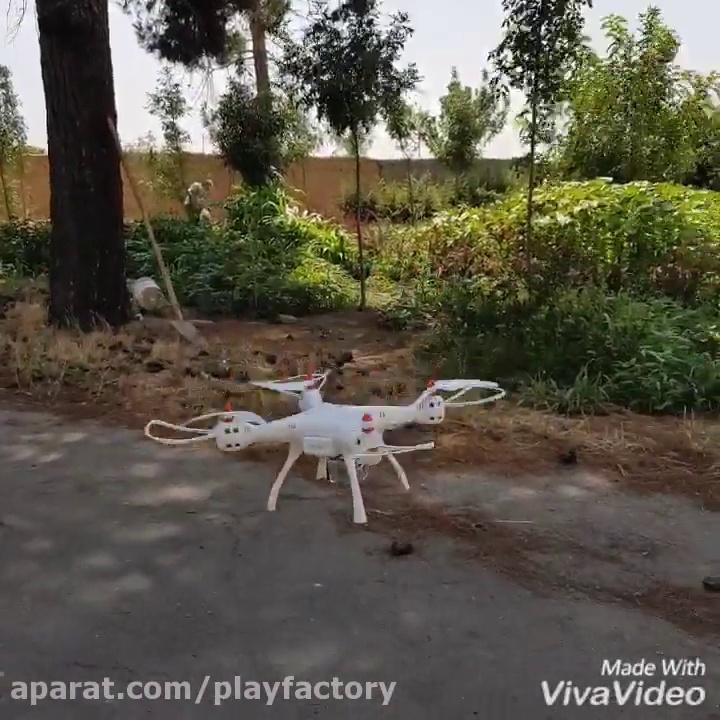drone: (143, 366, 507, 525)
